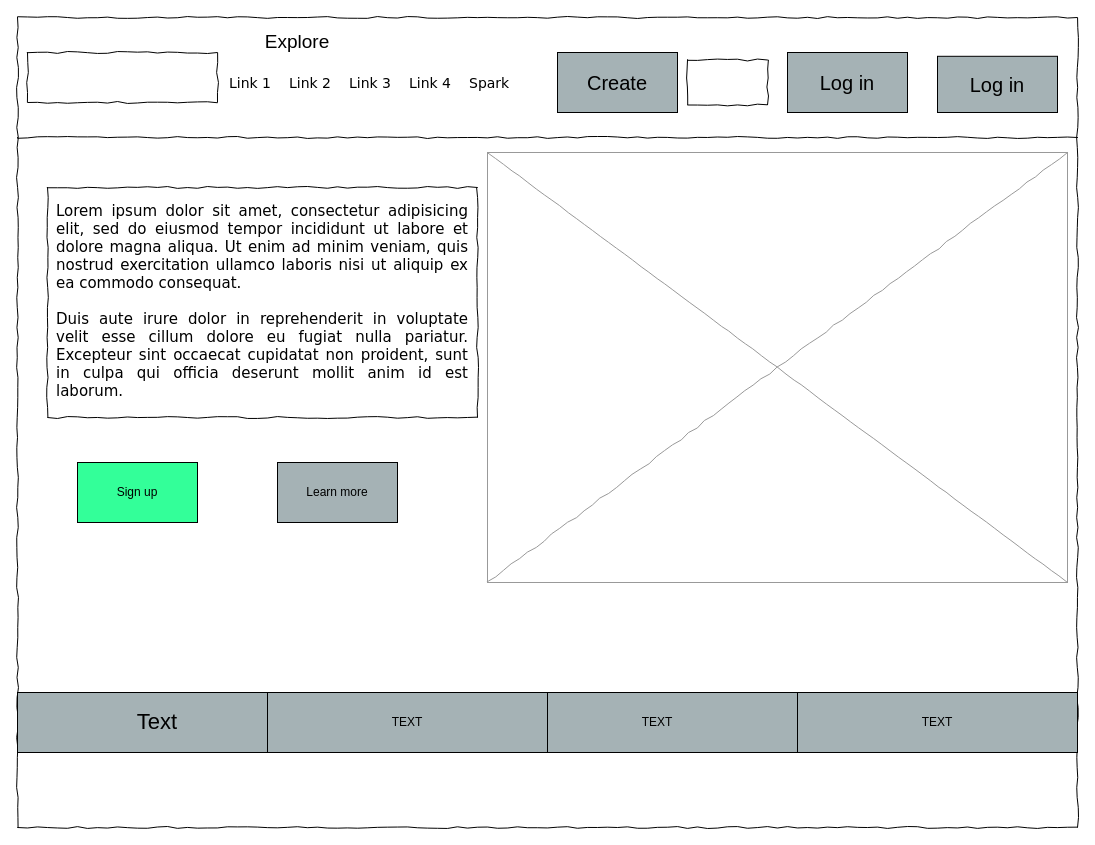
Some shapes in this 1095 by 845 pixel diagram are drawn without their labels. Each missing label, with the centre of its shape:
ICON: [727,82]
LOGO: [122,77]
